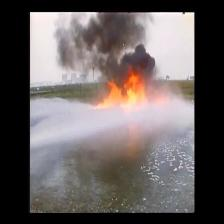fire: (104, 78, 150, 108)
smoke: (57, 15, 154, 76)
